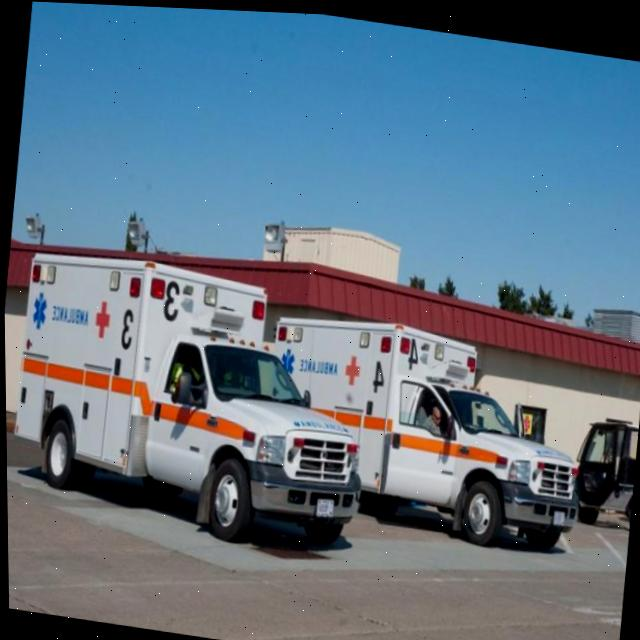emergency: (111, 248, 378, 556), (356, 294, 603, 556)
